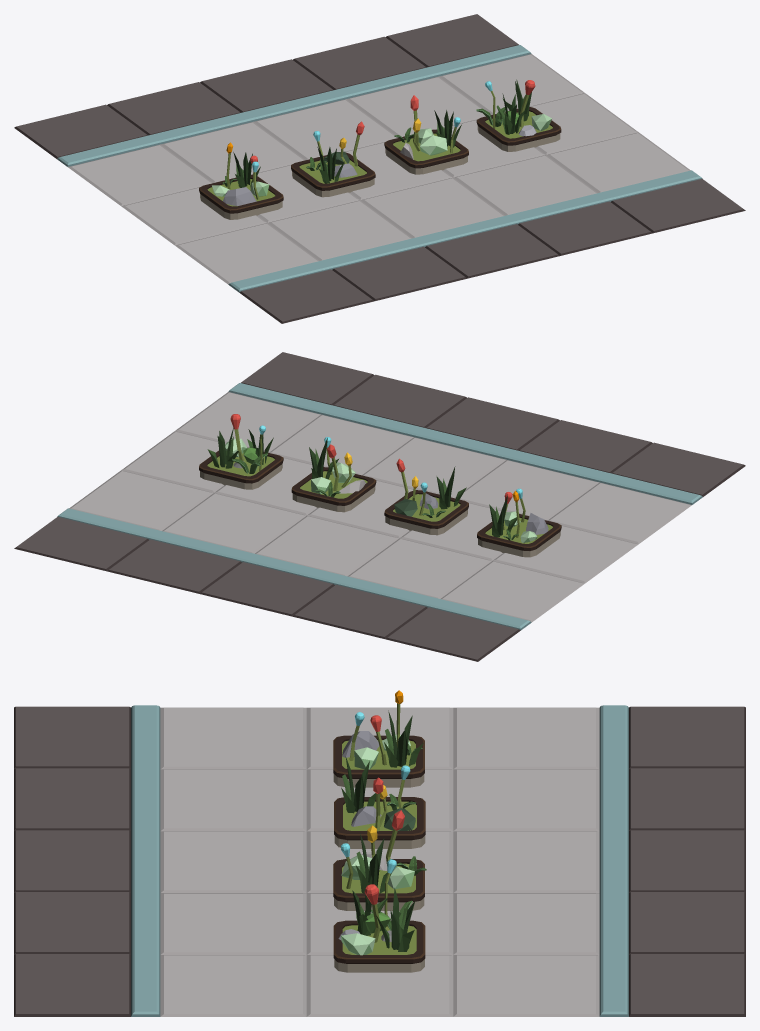
The model's file is Road_D.glb.
The picture shows the model from 3 angles, top to bottom: view 1: azimuth 30°, elevation 25°; view 2: azimuth 150°, elevation 25°; view 3: azimuth 270°, elevation 25°; orthographic projection. The views are drawn at different scales.
Visible parts, largest first — view 1: Road_D, Cube.280, Cube.281, Cube.279, Cube.282; view 2: Road_D, Cube.280, Cube.281, Cube.282, Cube.279, Grass_03.646; view 3: Road_D, Cube.282, Cube.280, Cube.279, Cube.281, Grass_03.646, Grass_03.643, Grass_03.644, Grass_03.645, Flower03.1790, Tree_03.1522, Grass_03.647.
Boxes of the visible parts, <box> form: Road_D: <box>14,14,745,323</box>; Cube.280: <box>291,152,375,197</box>; Cube.281: <box>384,129,468,174</box>; Cube.279: <box>199,174,283,219</box>; Cube.282: <box>476,107,561,151</box>; Road_D: <box>14,352,745,661</box>; Cube.280: <box>384,490,468,535</box>; Cube.281: <box>291,467,376,512</box>; Cube.282: <box>199,447,283,489</box>; Cube.279: <box>477,514,561,557</box>; Grass_03.646: <box>207,427,238,468</box>; Road_D: <box>14,705,745,1016</box>; Cube.282: <box>333,920,425,972</box>; Cube.280: <box>334,797,425,848</box>; Cube.279: <box>333,735,424,787</box>; Cube.281: <box>333,859,424,910</box>; Grass_03.646: <box>376,888,414,951</box>; Grass_03.643: <box>384,710,423,767</box>; Grass_03.644: <box>341,756,375,813</box>; Grass_03.645: <box>355,833,391,893</box>; Flower03.1790: <box>367,810,404,873</box>; Tree_03.1522: <box>341,933,375,955</box>; Grass_03.647: <box>352,875,387,935</box>.
Size of what is drawn, in the model's own units: 16 by 1.99 by 16.
Materials: 1 (1 with a texture image).
